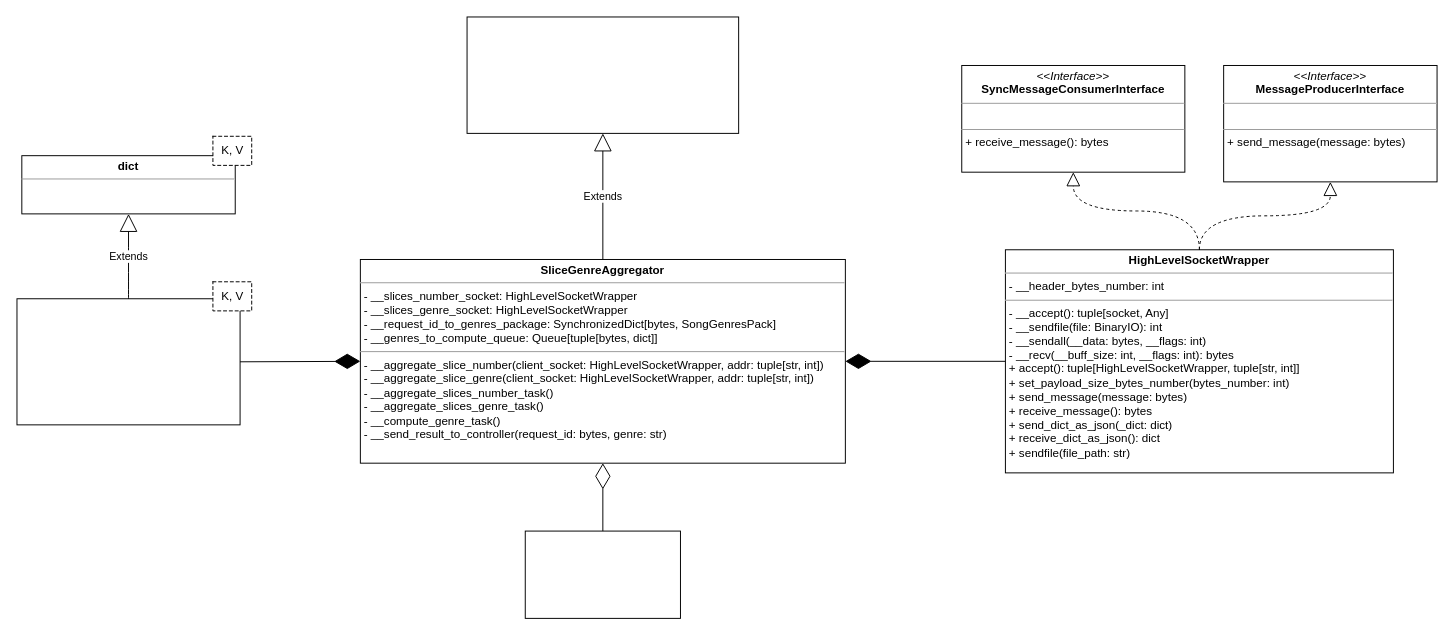
The diagram is 1454 pixels wide and 635 high, and some of its shapes have lost their labels. Each missing label, with the box of its shape:
AbstractMicroservice # _log_func: (str) -> None # _name: str + run(): (466, 16, 739, 133)
SongGenresPack + remaining_slices: int + genres_to_count: dict: (524, 530, 680, 618)
SynchronizedDict - __lock: Lock - __enter__(): dict[K, V] - __exit__(*args): (16, 298, 240, 425)
